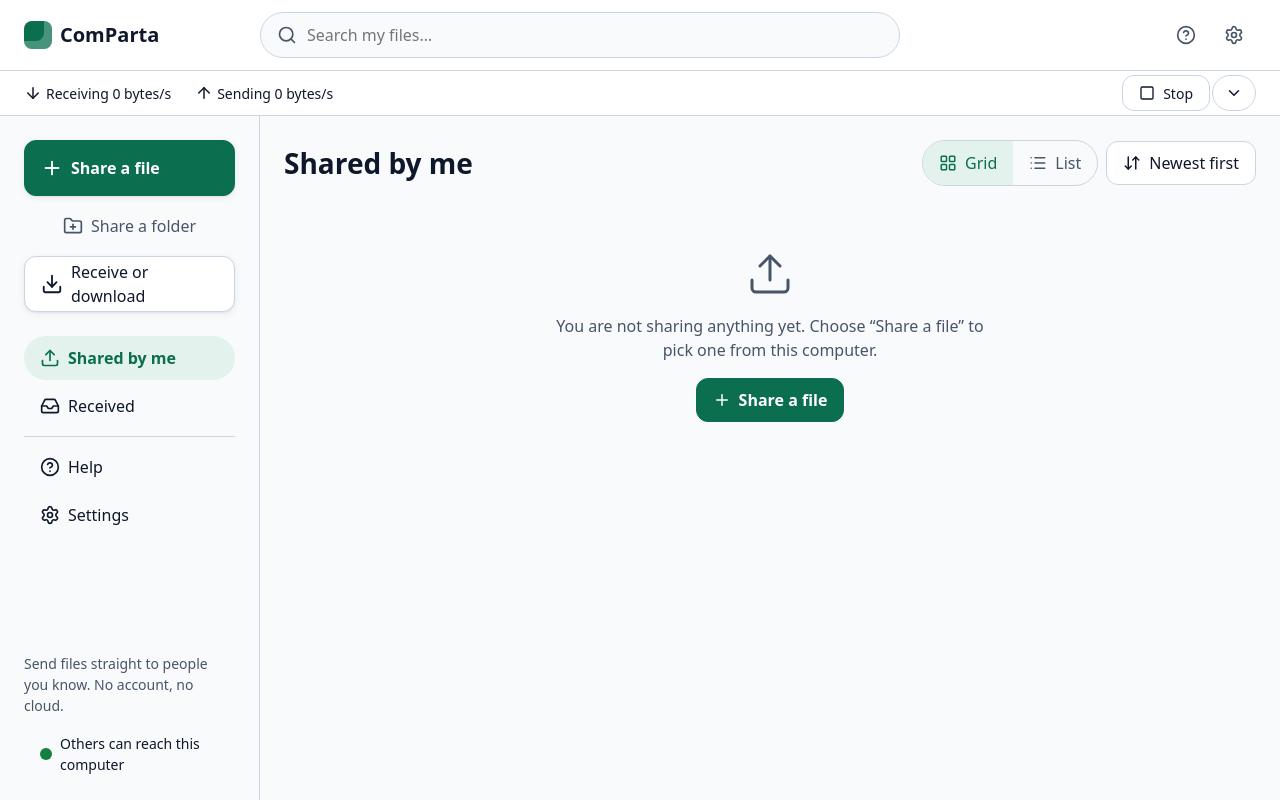
the speed bar › closes the menu with Escape and moves through it with the arrow keys
Click the button named "More ways to stop".
click(1234, 93)  # box [1212,75,1256,111]
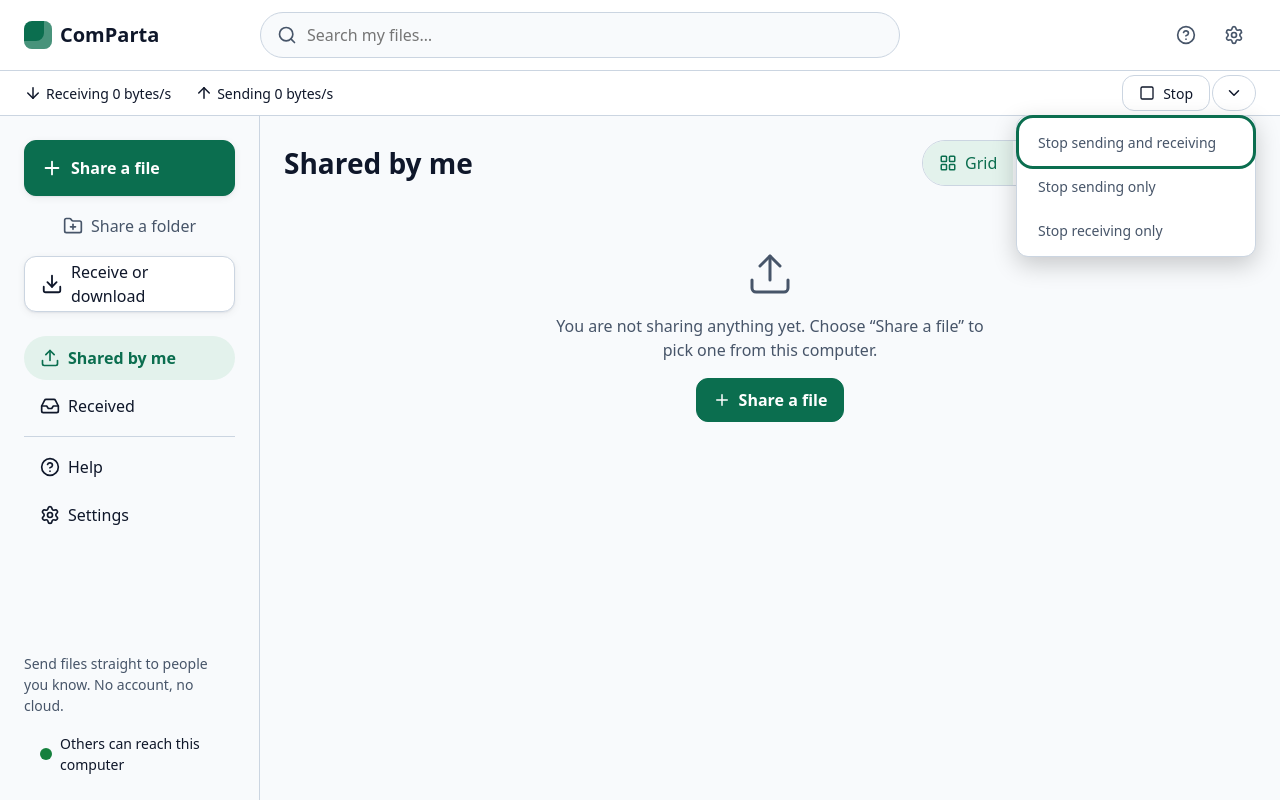
Press Arrowup
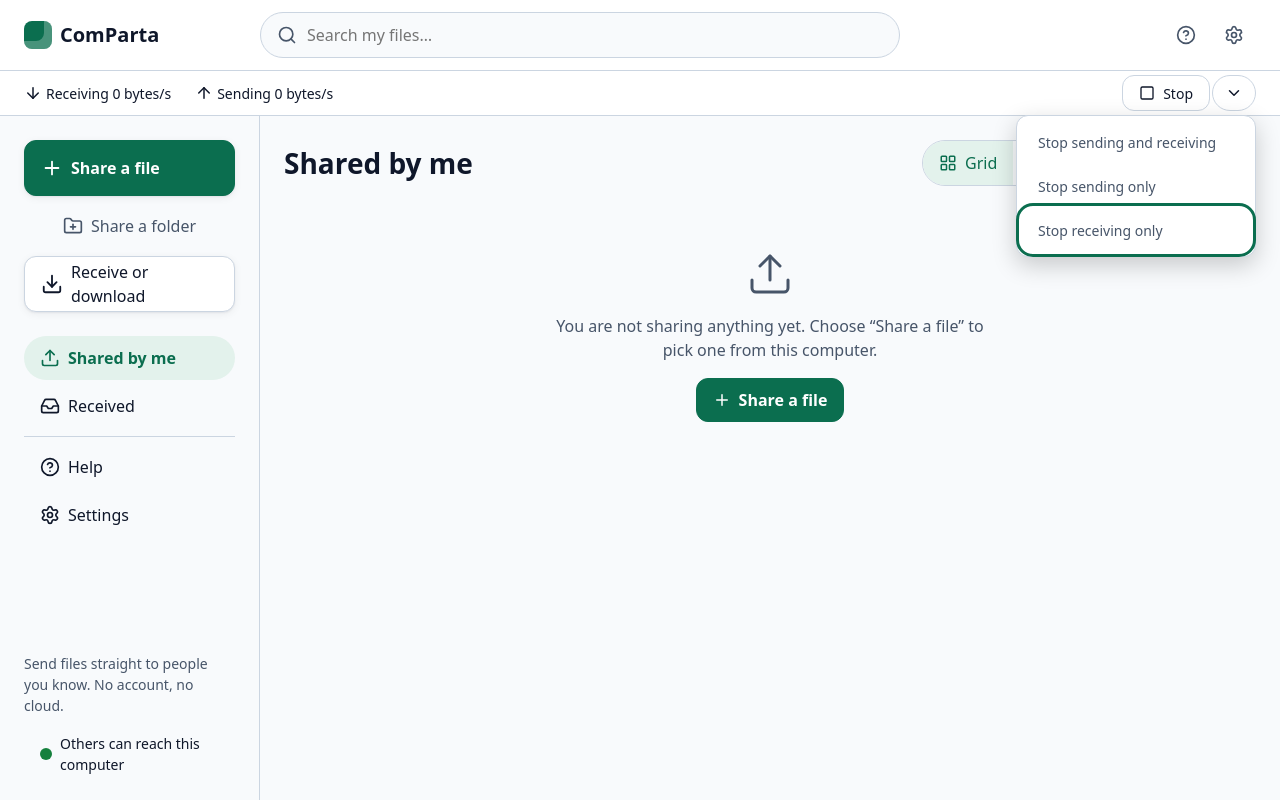
Press Arrowdown
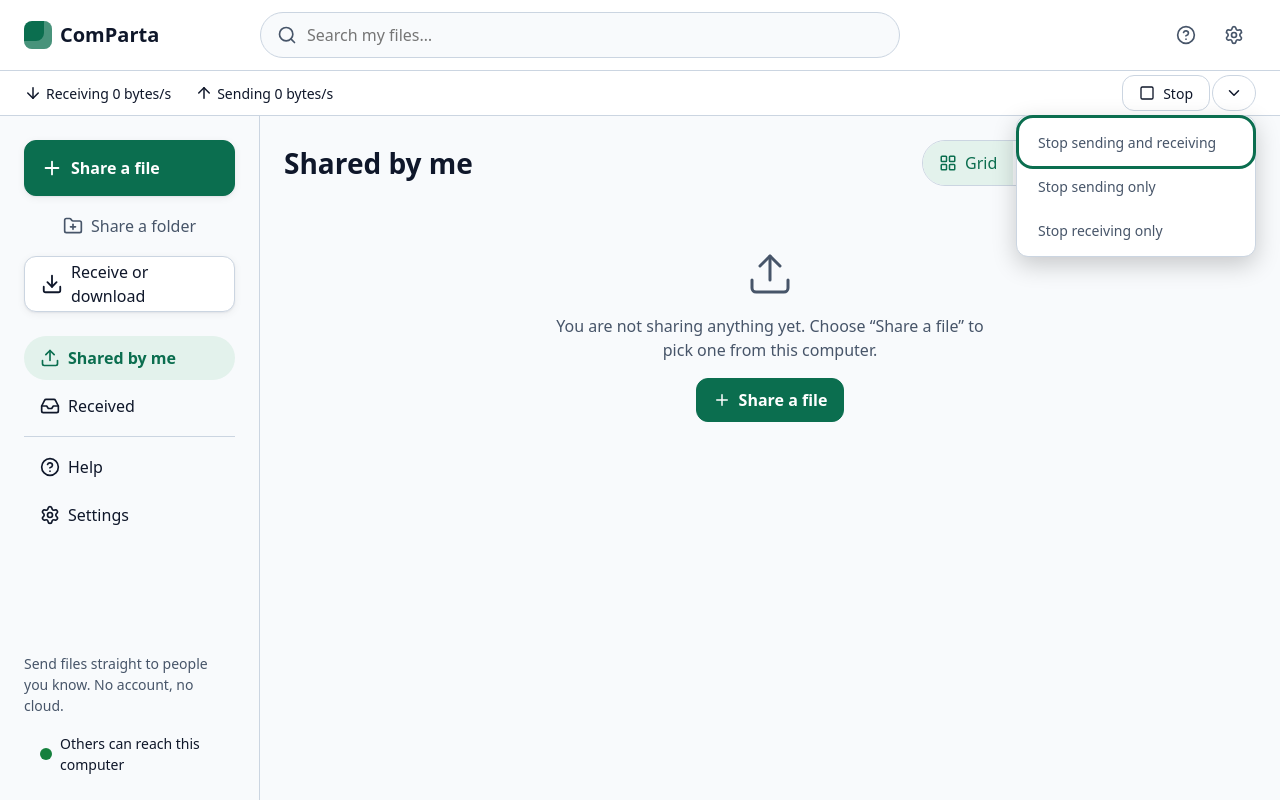
Press Escape
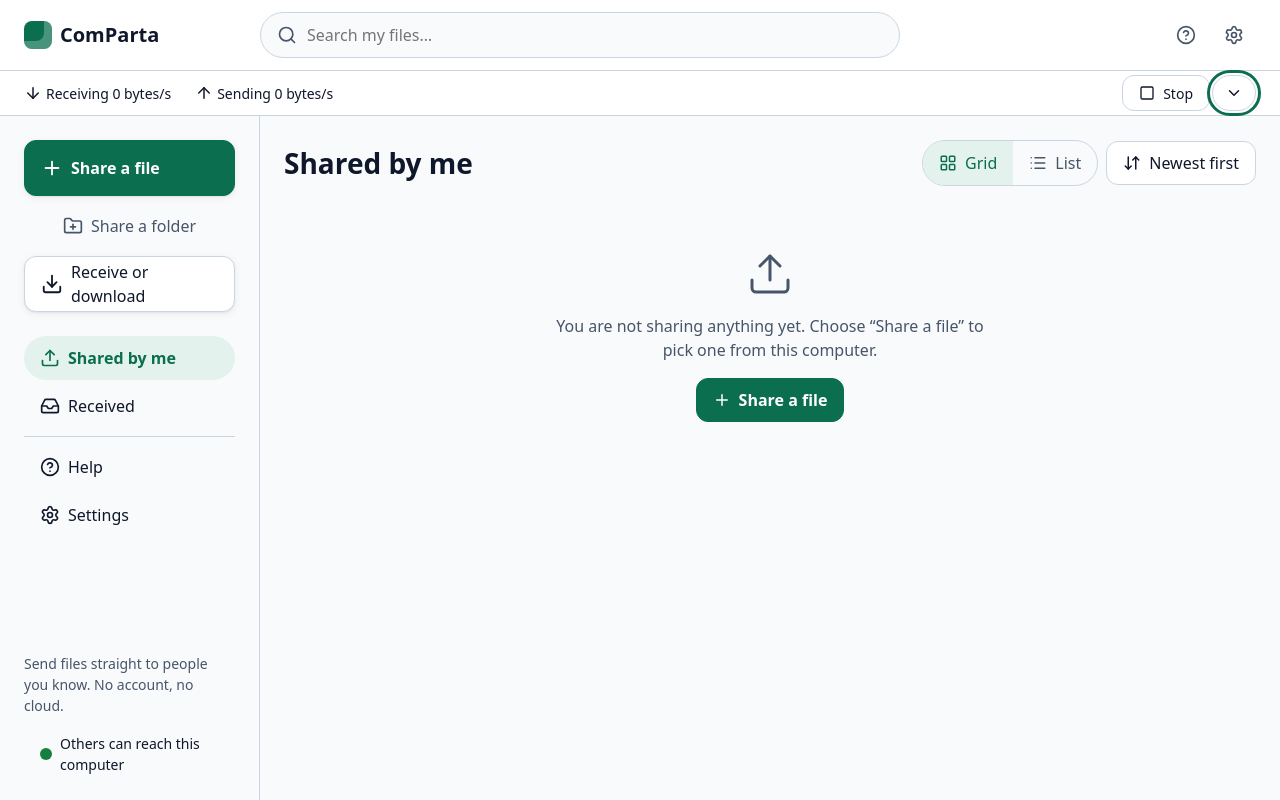
Now the menu is gone
